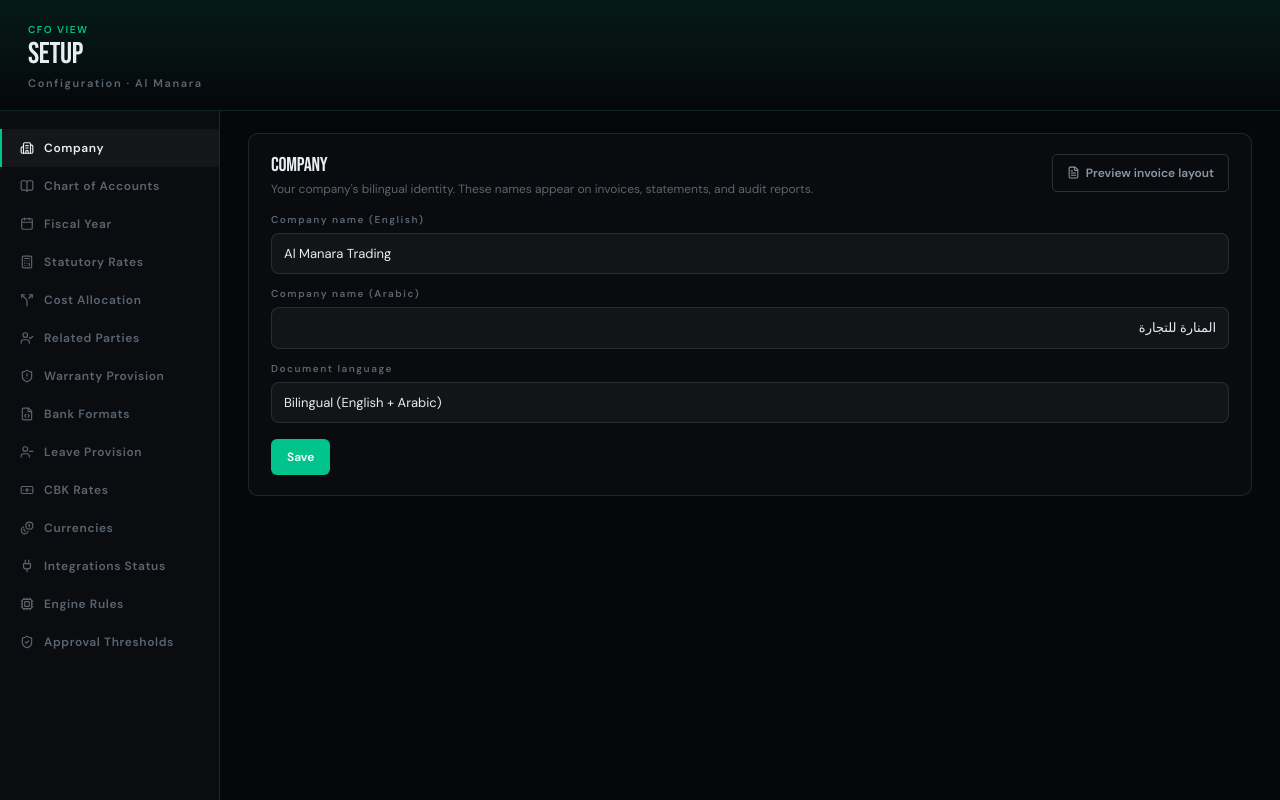
Scenario: HASEEB-448 — SetupScreen onboarding polish › invoice preview: bilingual renders both EN and AR facsimiles
Expected: the field with test id "company-name-en" is shown, left=271, top=232, right=1229, bottom=274
Click the button with test id "company-preview-button" at x=1140, y=172, box left=1052, top=154, right=1229, bottom=192
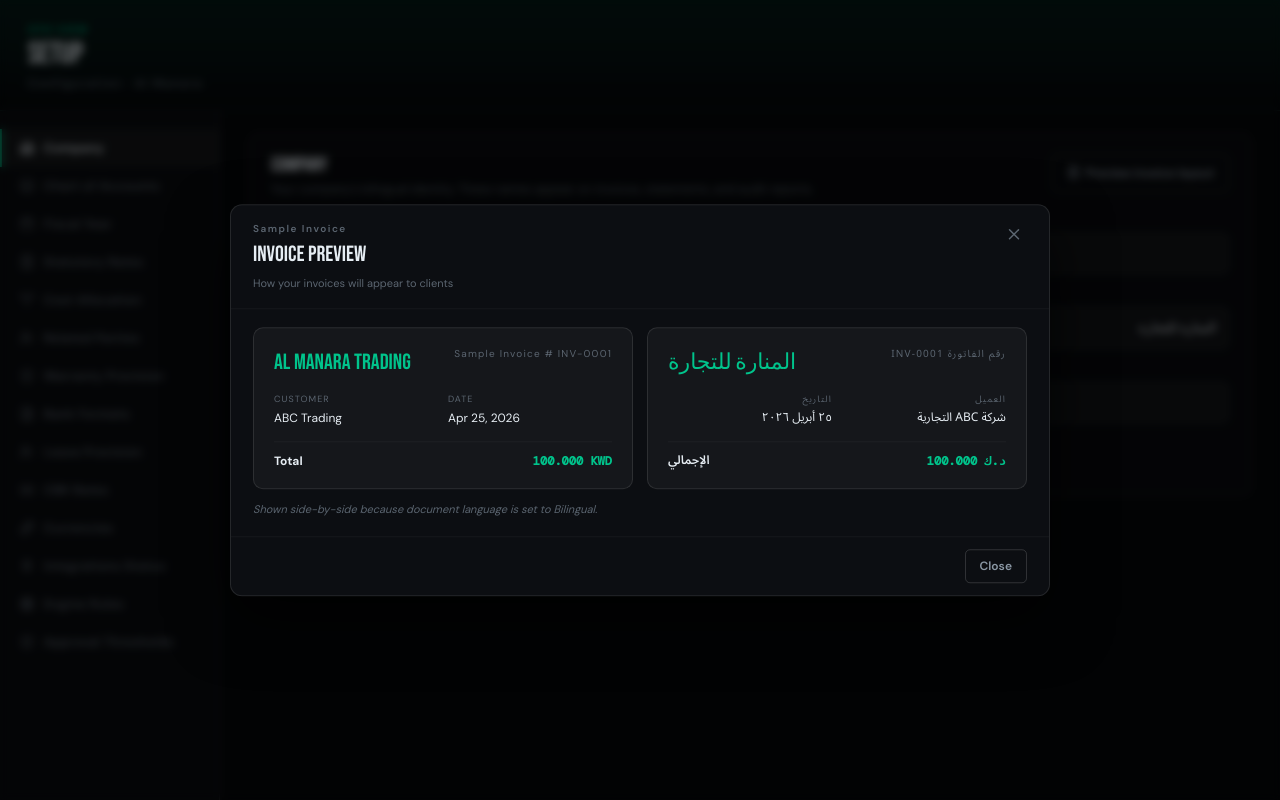
Now the element with test id "invoice-facsimile-en" is shown, box left=253, top=327, right=633, bottom=489
Now the element with test id "invoice-facsimile-ar" is shown, box left=647, top=327, right=1027, bottom=489
